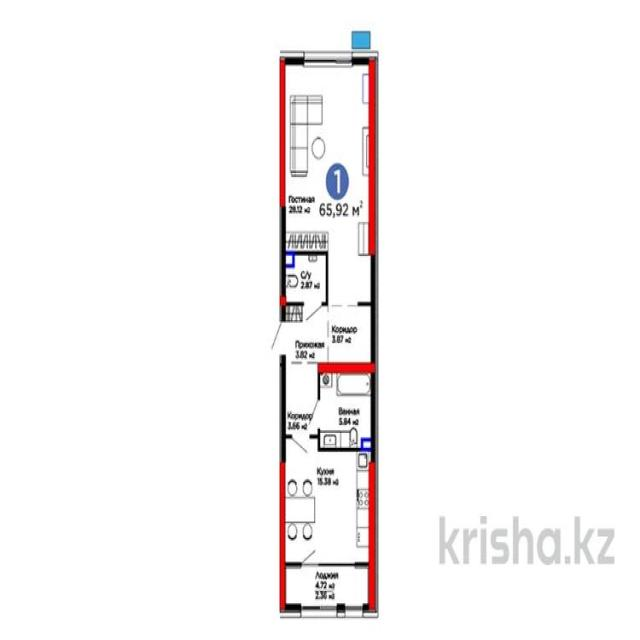balcony: (281, 566, 373, 609)
bathroom: (319, 366, 374, 450), (282, 252, 327, 303)
hallway: (325, 305, 374, 366), (282, 304, 328, 365), (284, 363, 318, 437)
kitchen: (283, 452, 374, 564)
living_room: (284, 59, 374, 252)
